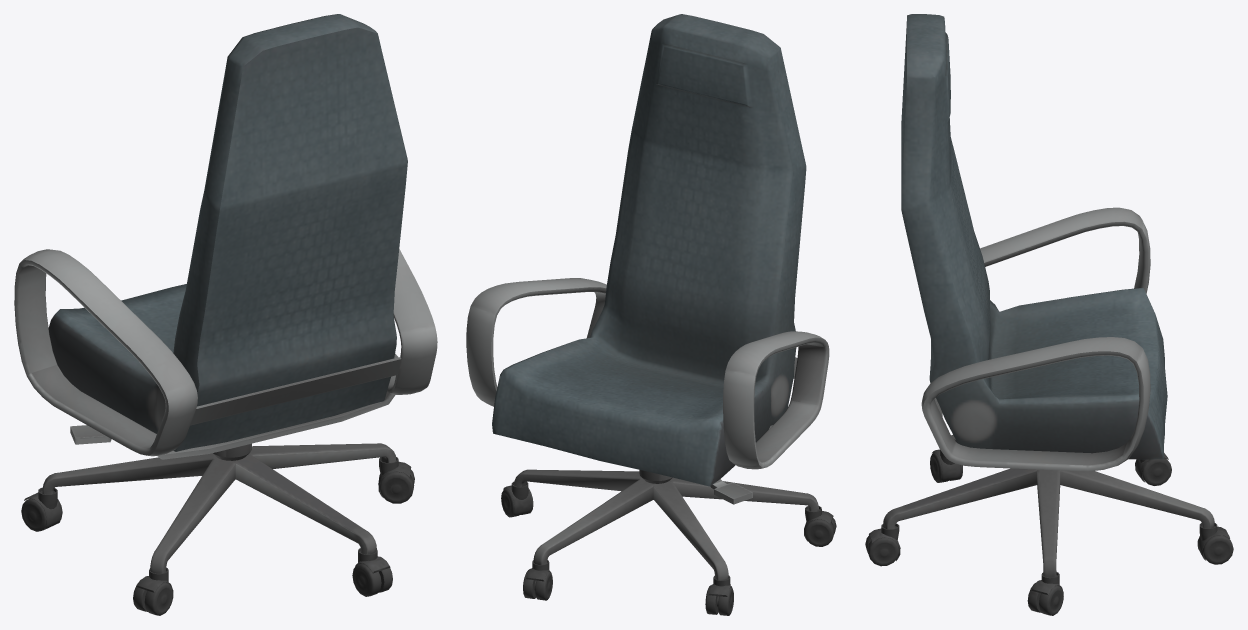
File: office chair.FBX
3 renders of one model, left to right at view 1: azimuth 30°, elevation 25°; view 2: azimuth 150°, elevation 25°; view 3: azimuth 270°, elevation 25°, orthographic. The views are drawn at different scales.
Visible parts, largest first — view 1: Office Chair; view 2: Office Chair; view 3: Office Chair.
Part boxes in pixels (box(x1,y1,x2,y2)): Office Chair: box(14, 14, 437, 615); Office Chair: box(466, 14, 836, 615); Office Chair: box(865, 14, 1233, 615).
Size of the model in its own units: 98.57 by 152 by 100.
